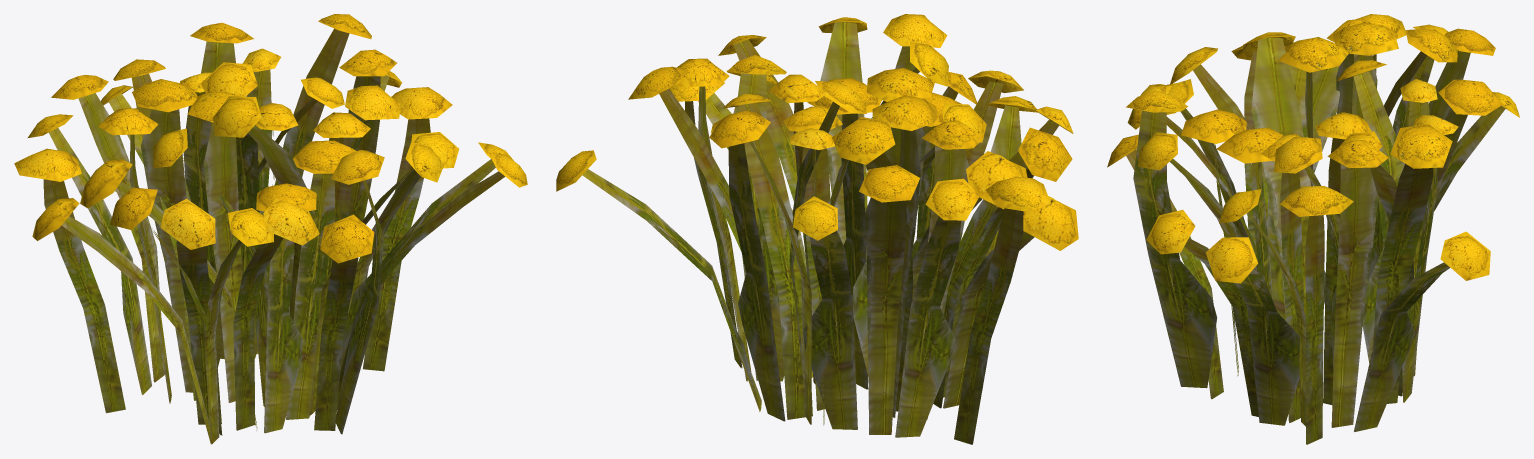
File: NaturePlant07_3.FBX
The picture shows the model from 3 angles, left to right: view 1: azimuth 30°, elevation 25°; view 2: azimuth 150°, elevation 25°; view 3: azimuth 270°, elevation 25°; orthographic projection. The views are drawn at different scales.
Parts seen in each view (by area): view 1: NaturePlant07_3; view 2: NaturePlant07_3; view 3: NaturePlant07_3.
Part boxes in pixels (x1,y1,x2,y2): NaturePlant07_3: (14,14,527,444); NaturePlant07_3: (556,14,1078,444); NaturePlant07_3: (1107,14,1519,444).
Size of what is drawn, in the model's own units: 1.59 by 1.17 by 1.27.
